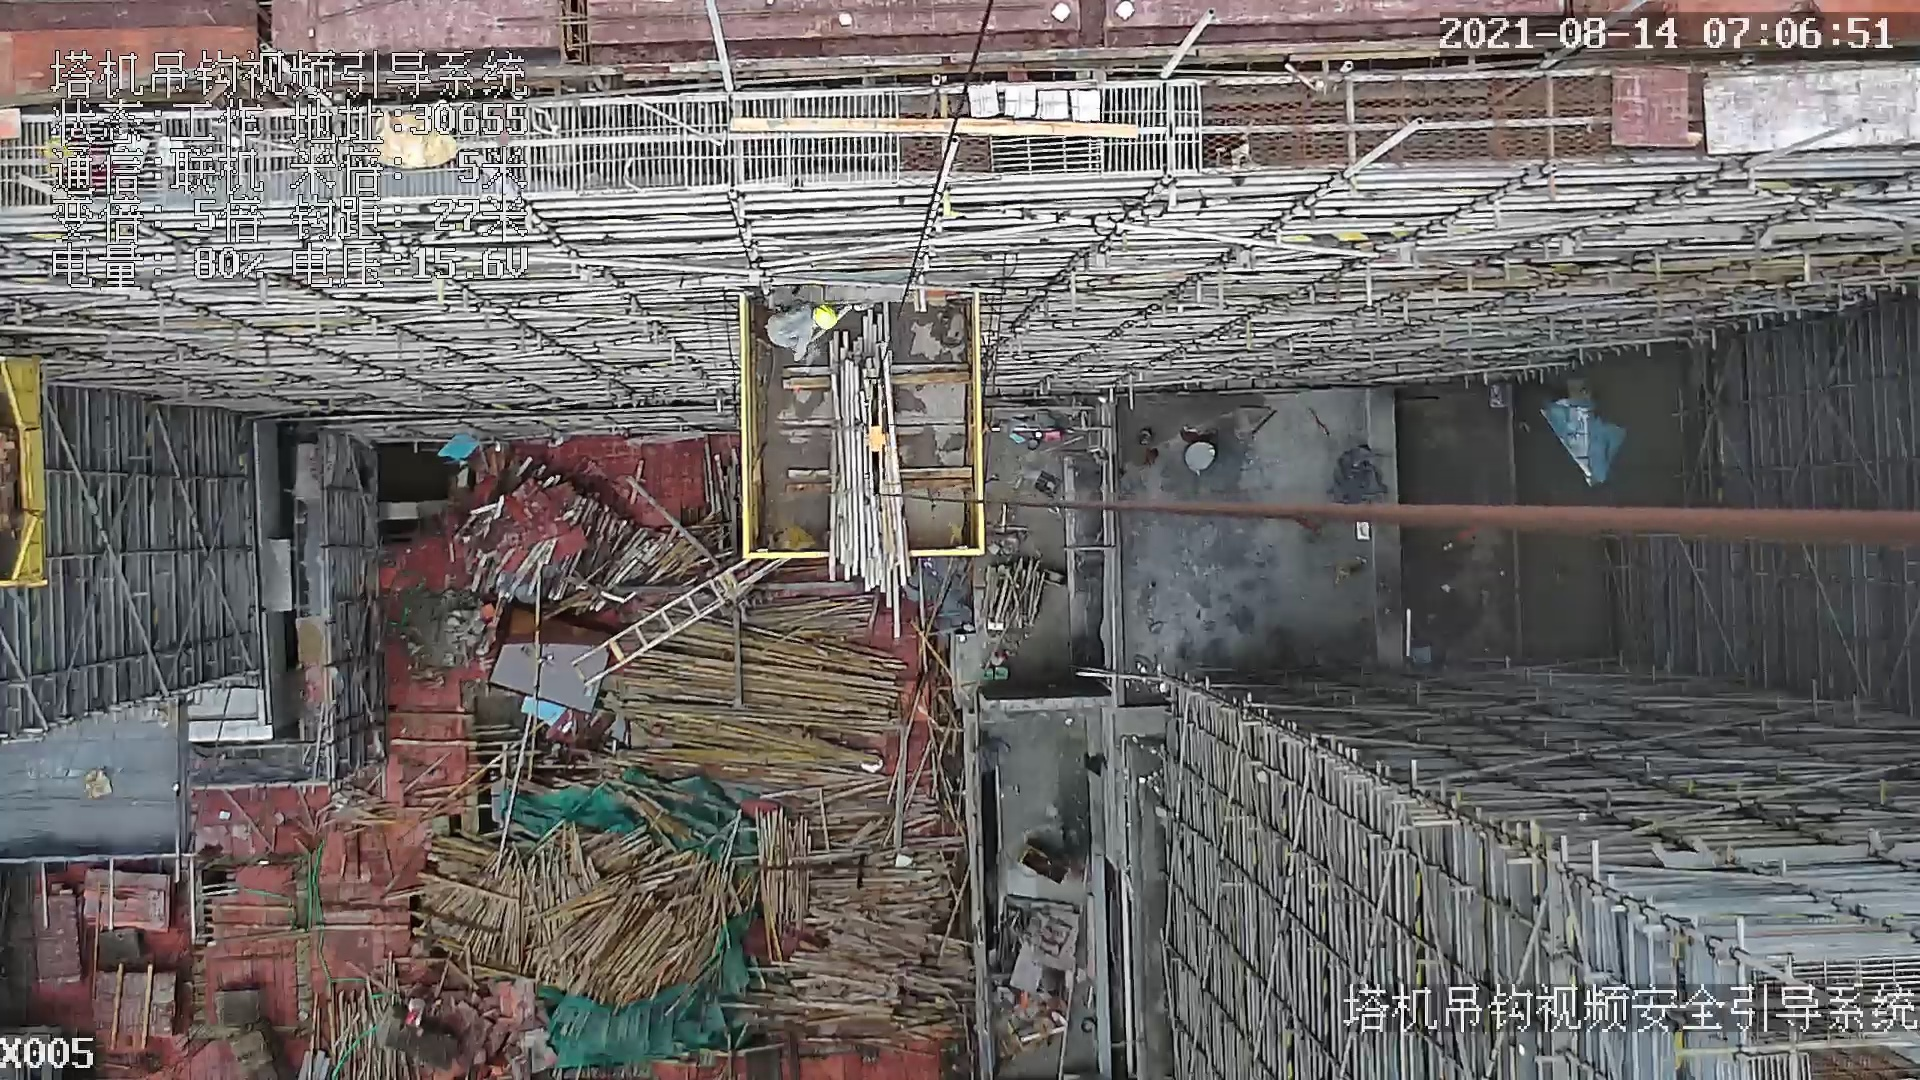helmet: (811, 301, 837, 333)
hook: (864, 373, 896, 508)
person: (760, 297, 838, 353)
